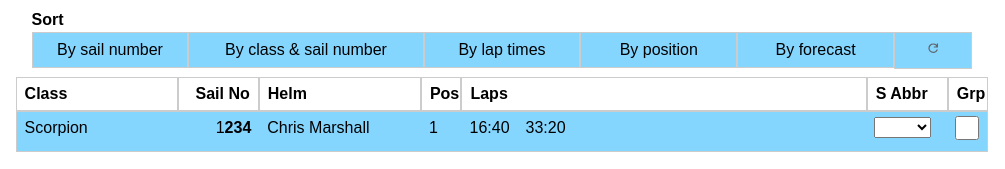
Test: when refresh button clicked › refreshes entries
Expected: the text "Batman" is not shown
What coordinates should you click on to do the following:
click the button named "refresh"
I would click on:
 (933, 50)
Its box is [894, 32, 972, 69].
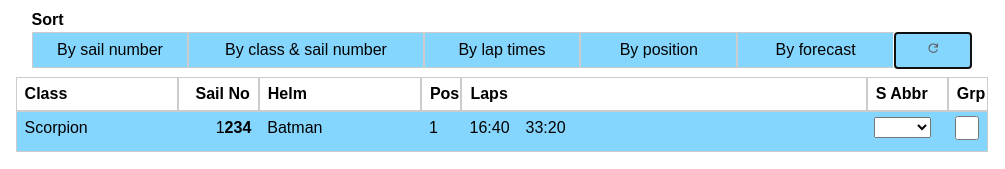
Now the text "Batman" is shown, box [267, 119, 322, 136]
